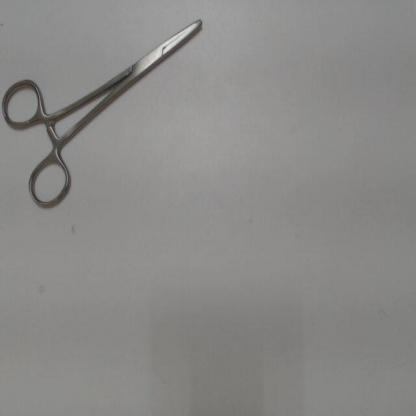Mayo Needle Holder: (0, 8, 216, 218)
